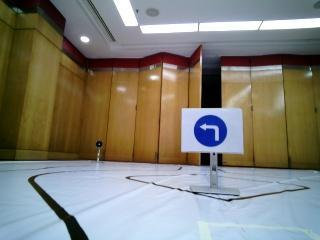left: (182, 110, 240, 153)
